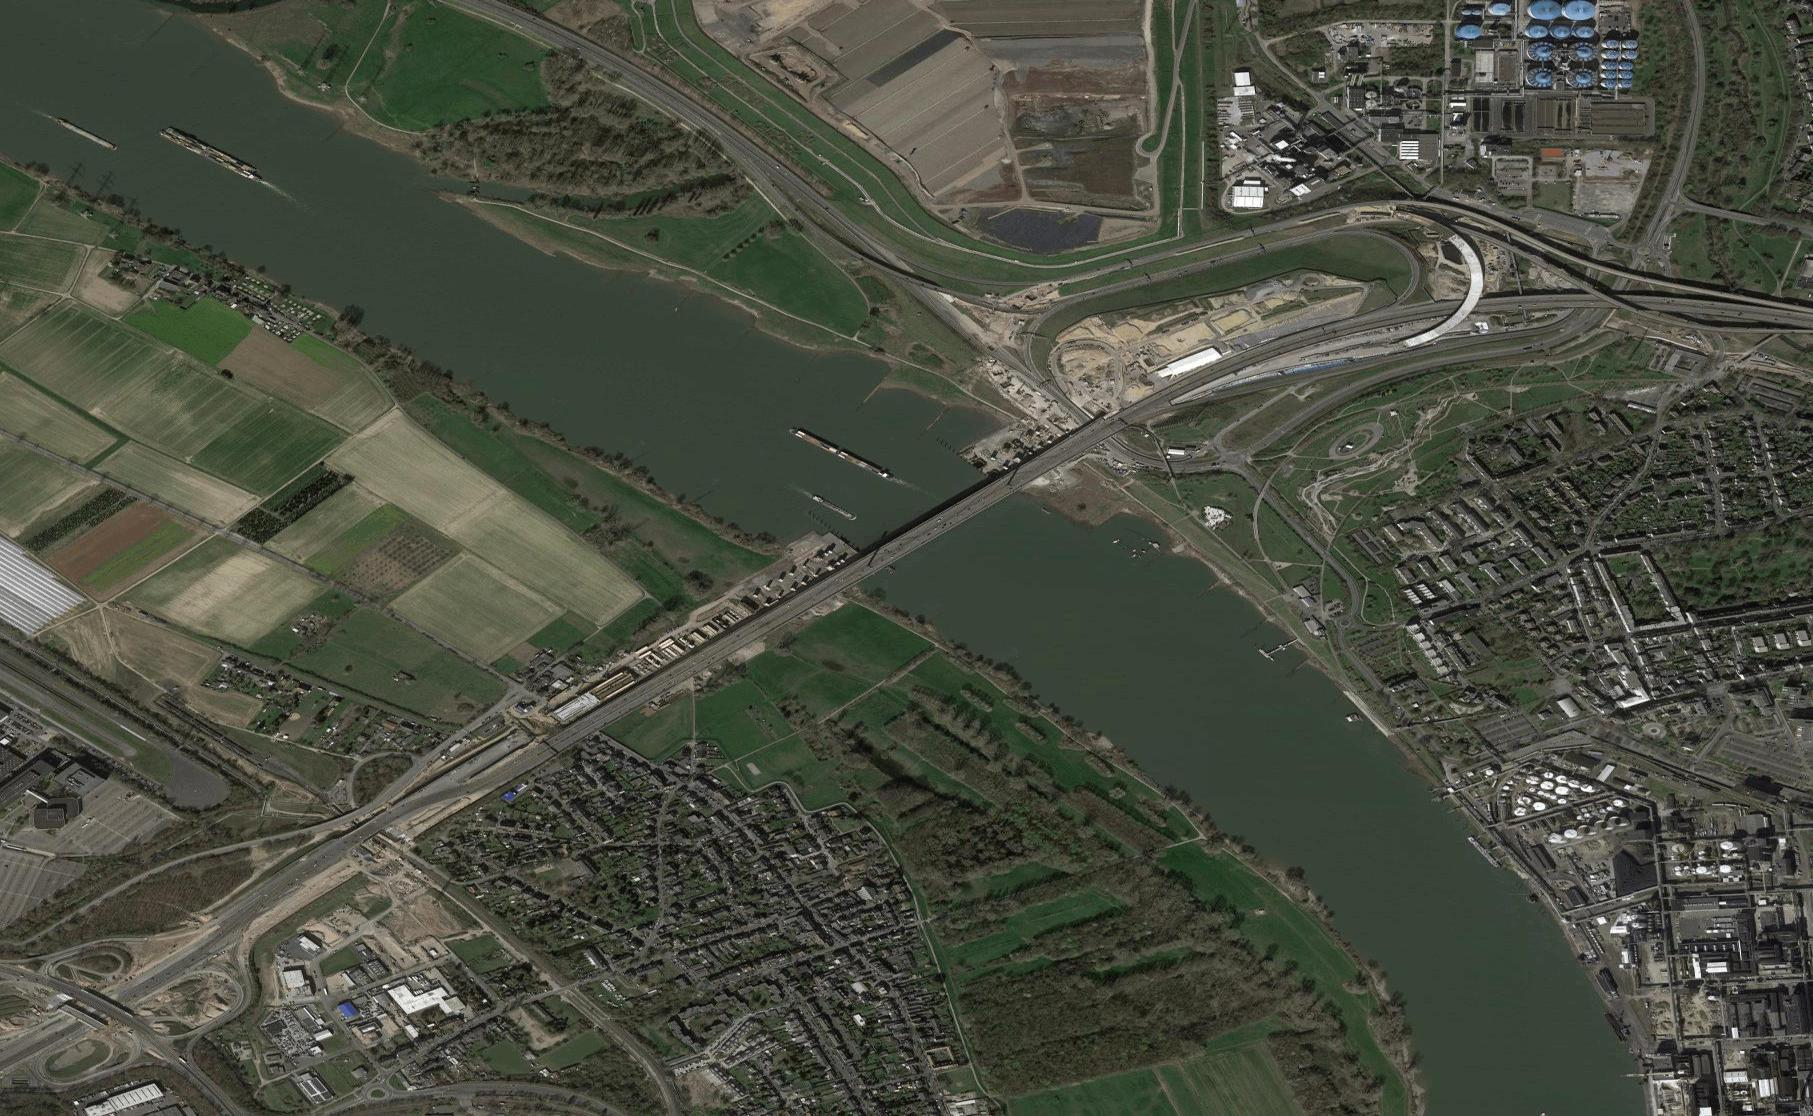bridge: (811, 430, 1074, 596), (60, 989, 131, 1029)
motorway: (1068, 293, 1362, 445), (545, 589, 805, 753), (1346, 258, 1651, 381), (1, 961, 186, 1081), (341, 746, 545, 843), (186, 843, 339, 961), (1651, 264, 1813, 365), (752, 163, 888, 263), (628, 74, 765, 167), (467, 1, 625, 76)
